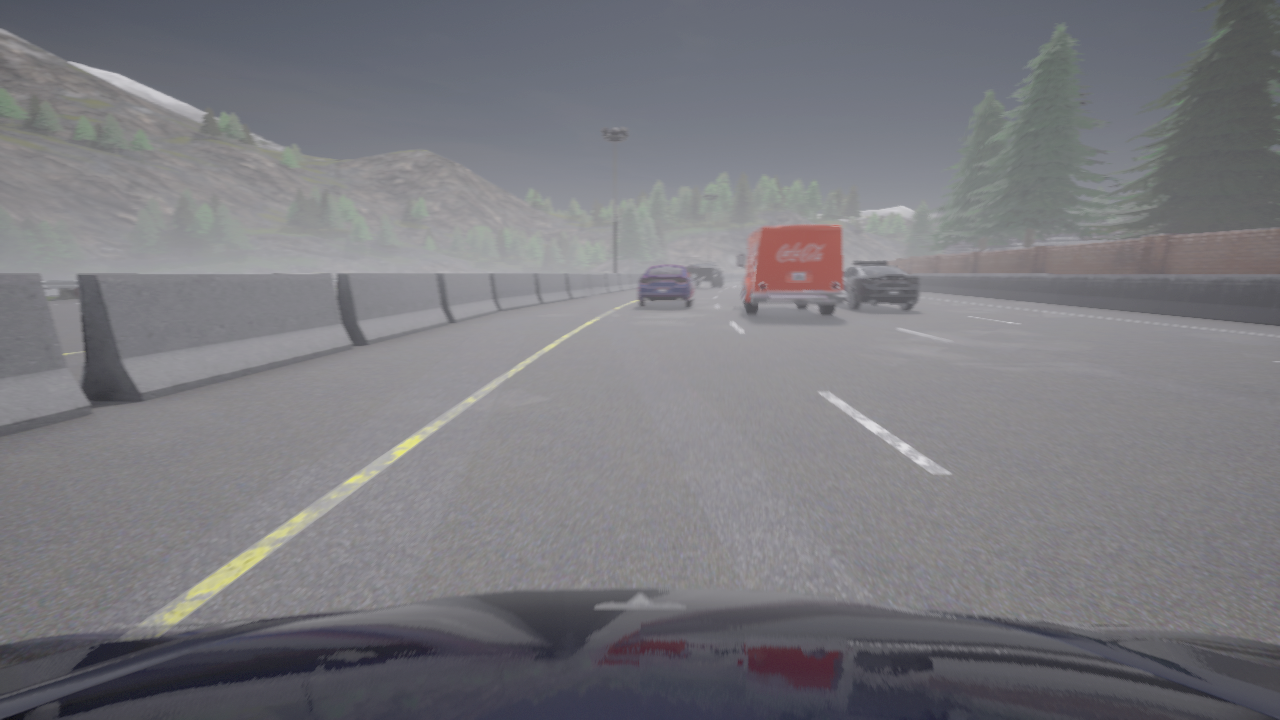cyclist: (0, 588, 1279, 719), (737, 225, 846, 315), (844, 262, 918, 310), (638, 264, 695, 307), (686, 263, 722, 288)
